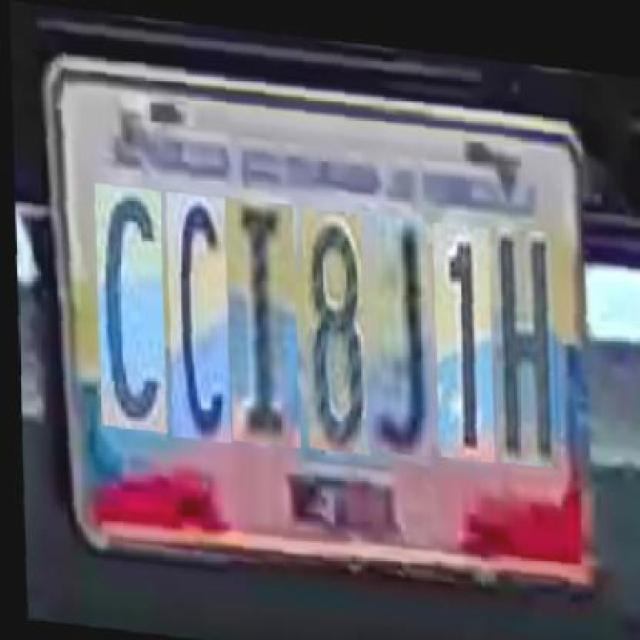1: (424, 200, 488, 438)
8: (294, 193, 363, 438)
c: (87, 179, 161, 427), (158, 184, 225, 433)
h: (484, 202, 553, 442)
i: (218, 186, 293, 434)
j: (353, 196, 425, 436)
